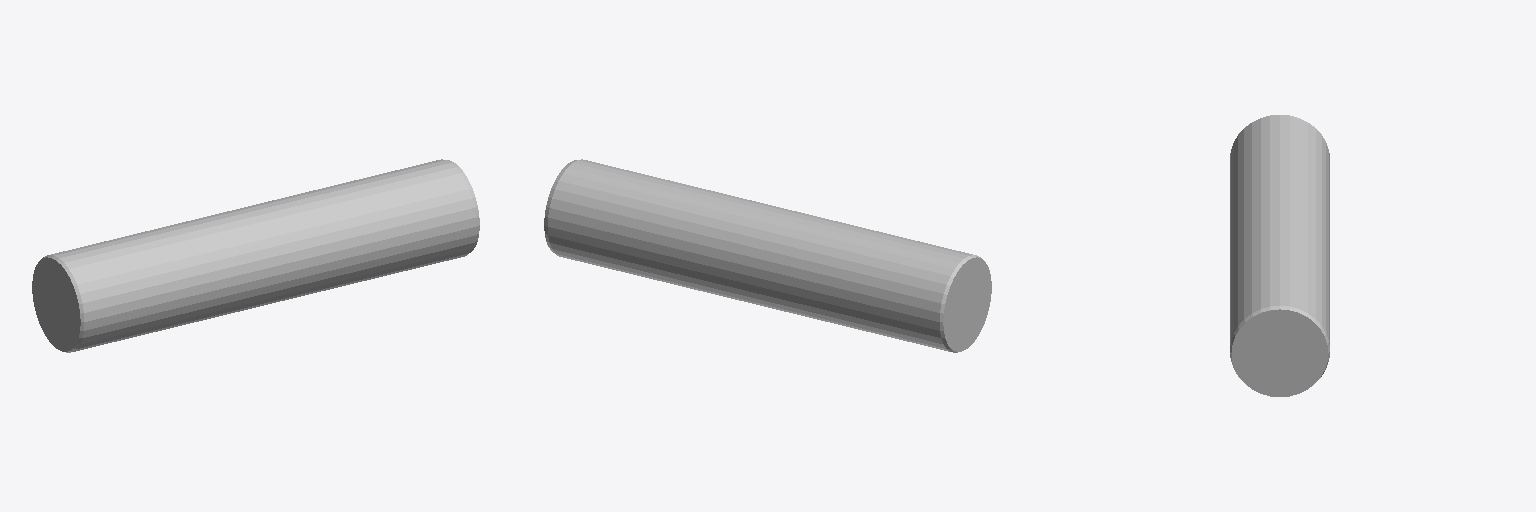
File: Biscuits.obj
The picture shows the model from 3 angles: view 1: azimuth 30°, elevation 25°; view 2: azimuth 150°, elevation 25°; view 3: azimuth 270°, elevation 25°; orthographic projection.
Visible parts, largest first — view 1: Cylinder; view 2: Cylinder; view 3: Cylinder.
Boxes of the visible parts, box(x1,y1,x2,y2) form: Cylinder: box(32, 159, 479, 352); Cylinder: box(544, 159, 991, 352); Cylinder: box(1230, 115, 1329, 396).
Bounding box in the file's own units: 9.18 × 2 × 2.